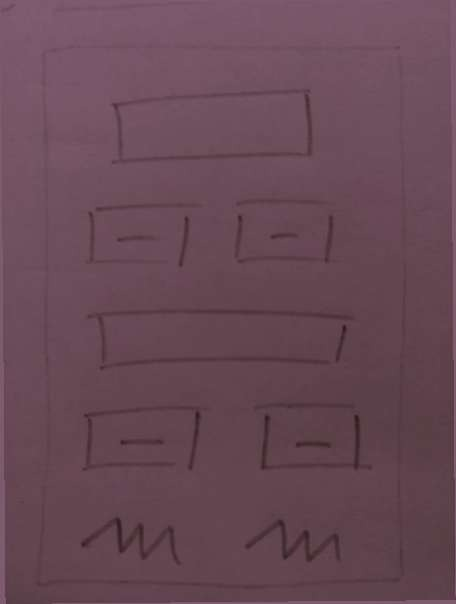button: (243, 392, 381, 482), (71, 401, 215, 478), (74, 197, 210, 276), (223, 189, 348, 273)
text: (70, 503, 189, 570), (238, 508, 354, 570)
text_input: (74, 303, 364, 377), (104, 85, 327, 169)
